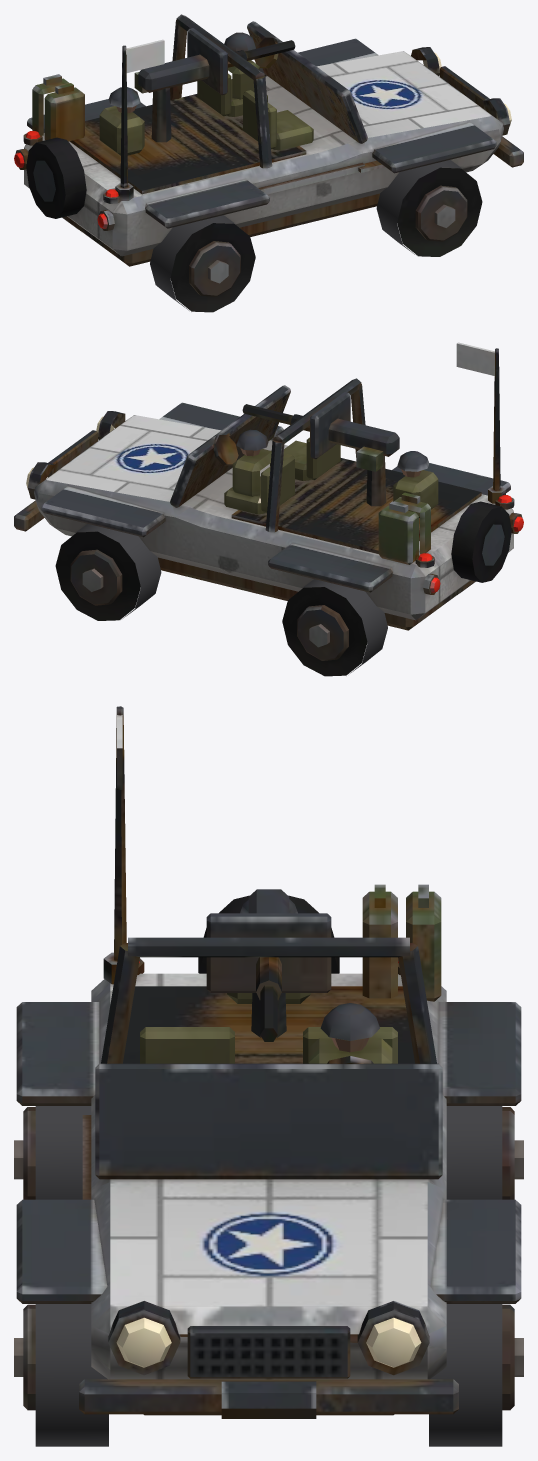
The model's file is jeep.allies.glb.
The picture shows the model from 3 angles, top to bottom: view 1: azimuth 30°, elevation 25°; view 2: azimuth 150°, elevation 25°; view 3: azimuth 270°, elevation 25°; orthographic projection. The views are drawn at different scales.
Visible parts, largest first — view 1: root_mesh, turret_mesh, b0_mesh; view 2: root_mesh, turret_mesh, b0_mesh; view 3: root_mesh, turret_mesh, b0_mesh.
Boxes of the visible parts, left/top/right/bottom form: root_mesh: left=14, top=14, right=523, bottom=312; turret_mesh: left=99, top=28, right=227, bottom=155; b0_mesh: left=228, top=40, right=295, bottom=67; root_mesh: left=14, top=342, right=523, bottom=676; turret_mesh: left=310, top=392, right=438, bottom=517; b0_mesh: left=242, top=404, right=309, bottom=431; root_mesh: left=14, top=706, right=523, bottom=1446; turret_mesh: left=206, top=889, right=331, bottom=1037; b0_mesh: left=256, top=957, right=281, bottom=1041.
Bounding box in the file's own units: 0.665 × 0.387 × 0.376.
2 materials, 1 textured.
